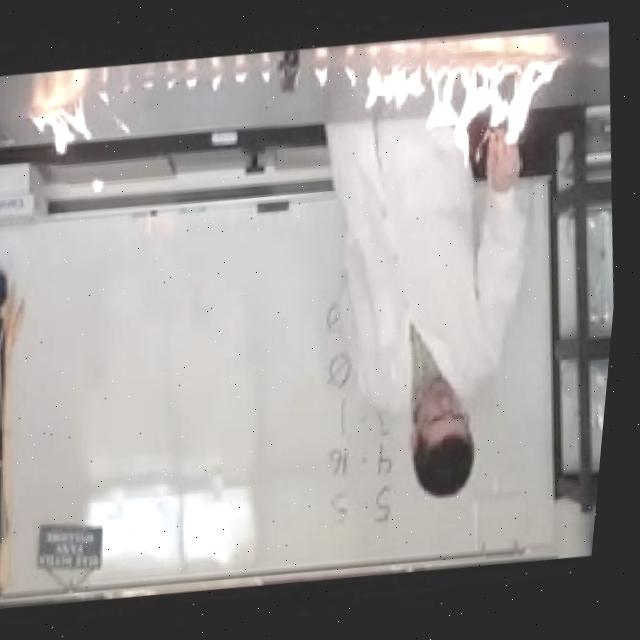Fire: (357, 43, 579, 182), (26, 88, 102, 164)
